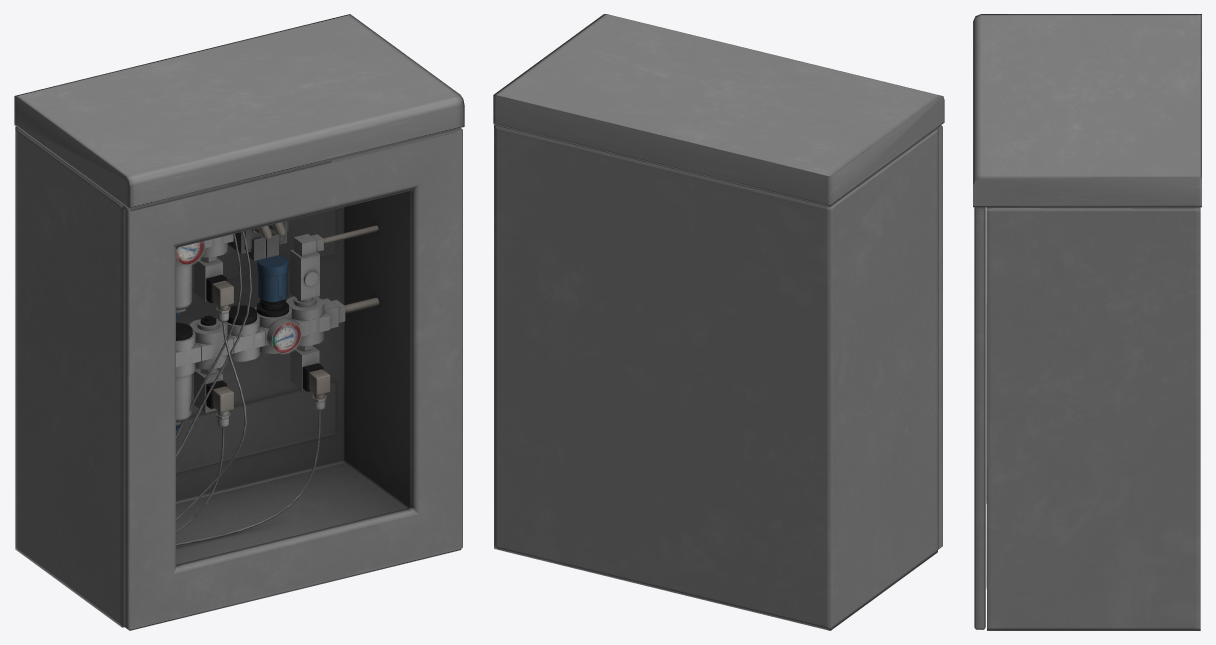
The model's file is manometro.fbx.
The picture shows the model from 3 angles, left to right: view 1: azimuth 30°, elevation 25°; view 2: azimuth 150°, elevation 25°; view 3: azimuth 270°, elevation 25°; orthographic projection.
Visible parts, largest first — view 1: polySurface578, polySurface577, pCube1, pCube47, pCube48, polySurface638, pCube41, polySurface648, polySurface609, pCube34, pCube11, polySurface650 (+5 smaller); view 2: polySurface578, pCube1, polySurface577; view 3: polySurface578, pCube1, polySurface577.
Part boxes in pixels (box(x1,y1,x2,y2)): polySurface578: box(15, 126, 410, 627); polySurface577: box(123, 128, 462, 630); pCube1: box(14, 14, 464, 208); pCube47: box(176, 382, 335, 472); pCube48: box(192, 209, 335, 288); polySurface638: box(257, 255, 288, 301); pCube41: box(290, 249, 319, 300); polySurface648: box(286, 296, 324, 346); polySurface609: box(189, 318, 227, 369); pCube34: box(290, 346, 319, 389); pCube11: box(194, 258, 222, 300); polySurface650: box(224, 315, 259, 361); polySurface578: box(494, 124, 937, 630); pCube1: box(493, 14, 944, 206); polySurface577: box(937, 125, 942, 549); polySurface578: box(986, 207, 1200, 630); pCube1: box(973, 14, 1201, 207); polySurface577: box(974, 207, 985, 629).
Size of the model in its own units: 29.77 by 38.38 by 17.56.
Materials: 3 (2 with a texture image).
